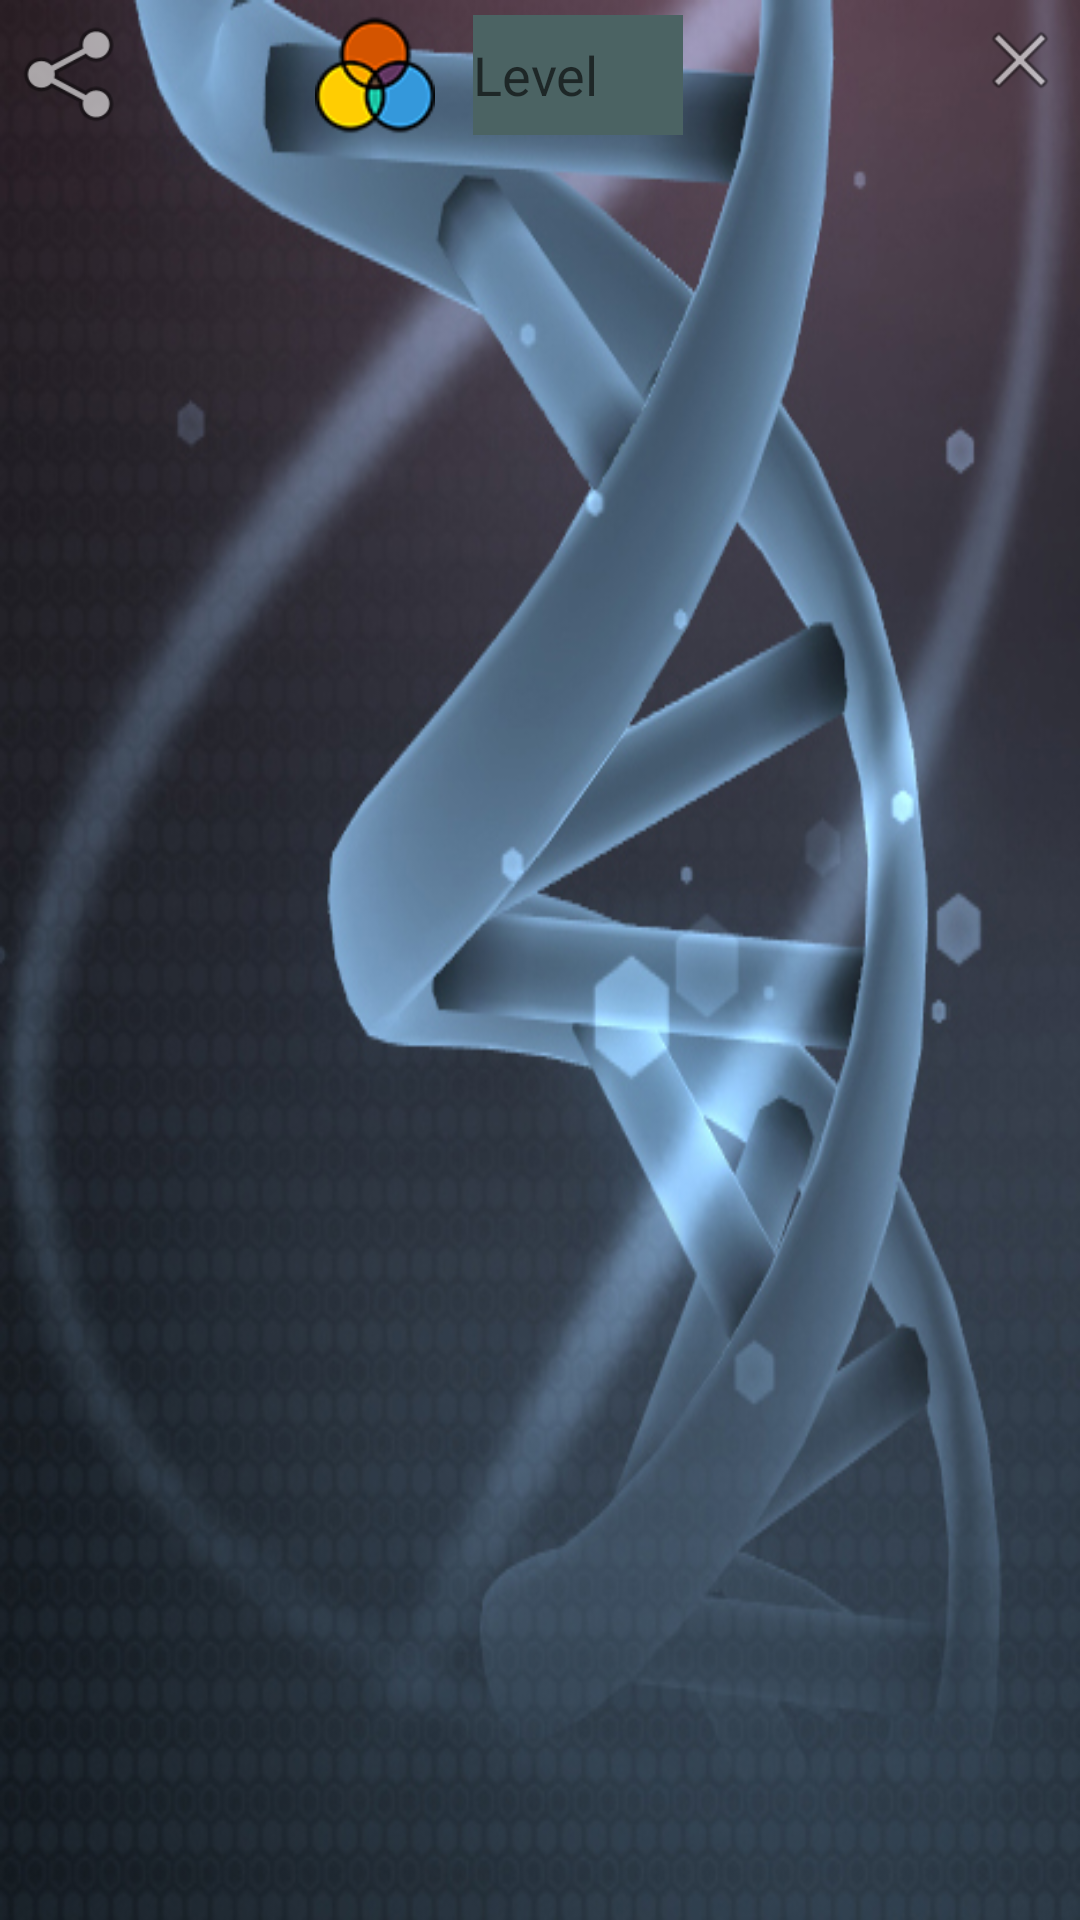

Where icons sit on this 1080*1920 app screen, as (x1,y1,x2,y2):
clickclose: (993,15,1057,105)
clickshare: (27,31,110,118)
